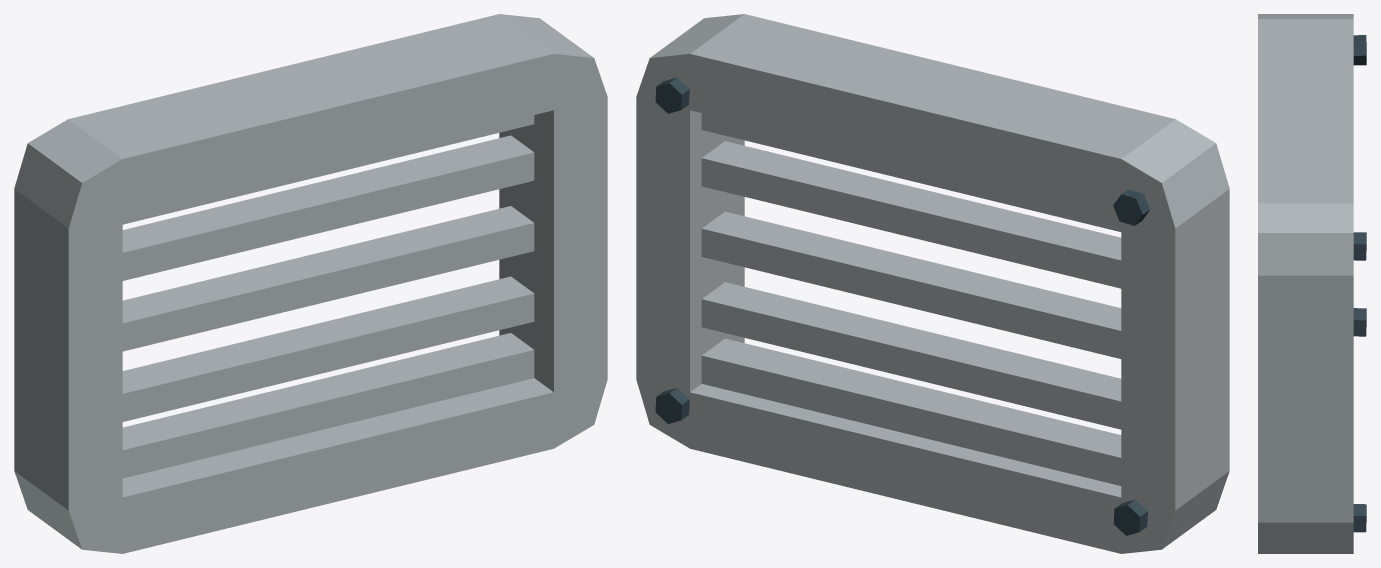
3 renders of one model, left to right at view 1: azimuth 30°, elevation 25°; view 2: azimuth 150°, elevation 25°; view 3: azimuth 270°, elevation 25°, orthographic. The views are drawn at different scales.
Parts seen in each view (by area): view 1: node_MeshObject-801792000-PolyPaper16; view 2: node_MeshObject-801792000-PolyPaper16; view 3: node_MeshObject-801792000-PolyPaper16.
Part boxes in pixels (bbox=[...]): node_MeshObject-801792000-PolyPaper16: bbox=[14, 14, 607, 553]; node_MeshObject-801792000-PolyPaper16: bbox=[636, 14, 1229, 553]; node_MeshObject-801792000-PolyPaper16: bbox=[1258, 14, 1366, 553].
Size of the model in its own units: 0.5323 by 0.3726 by 0.1061.
